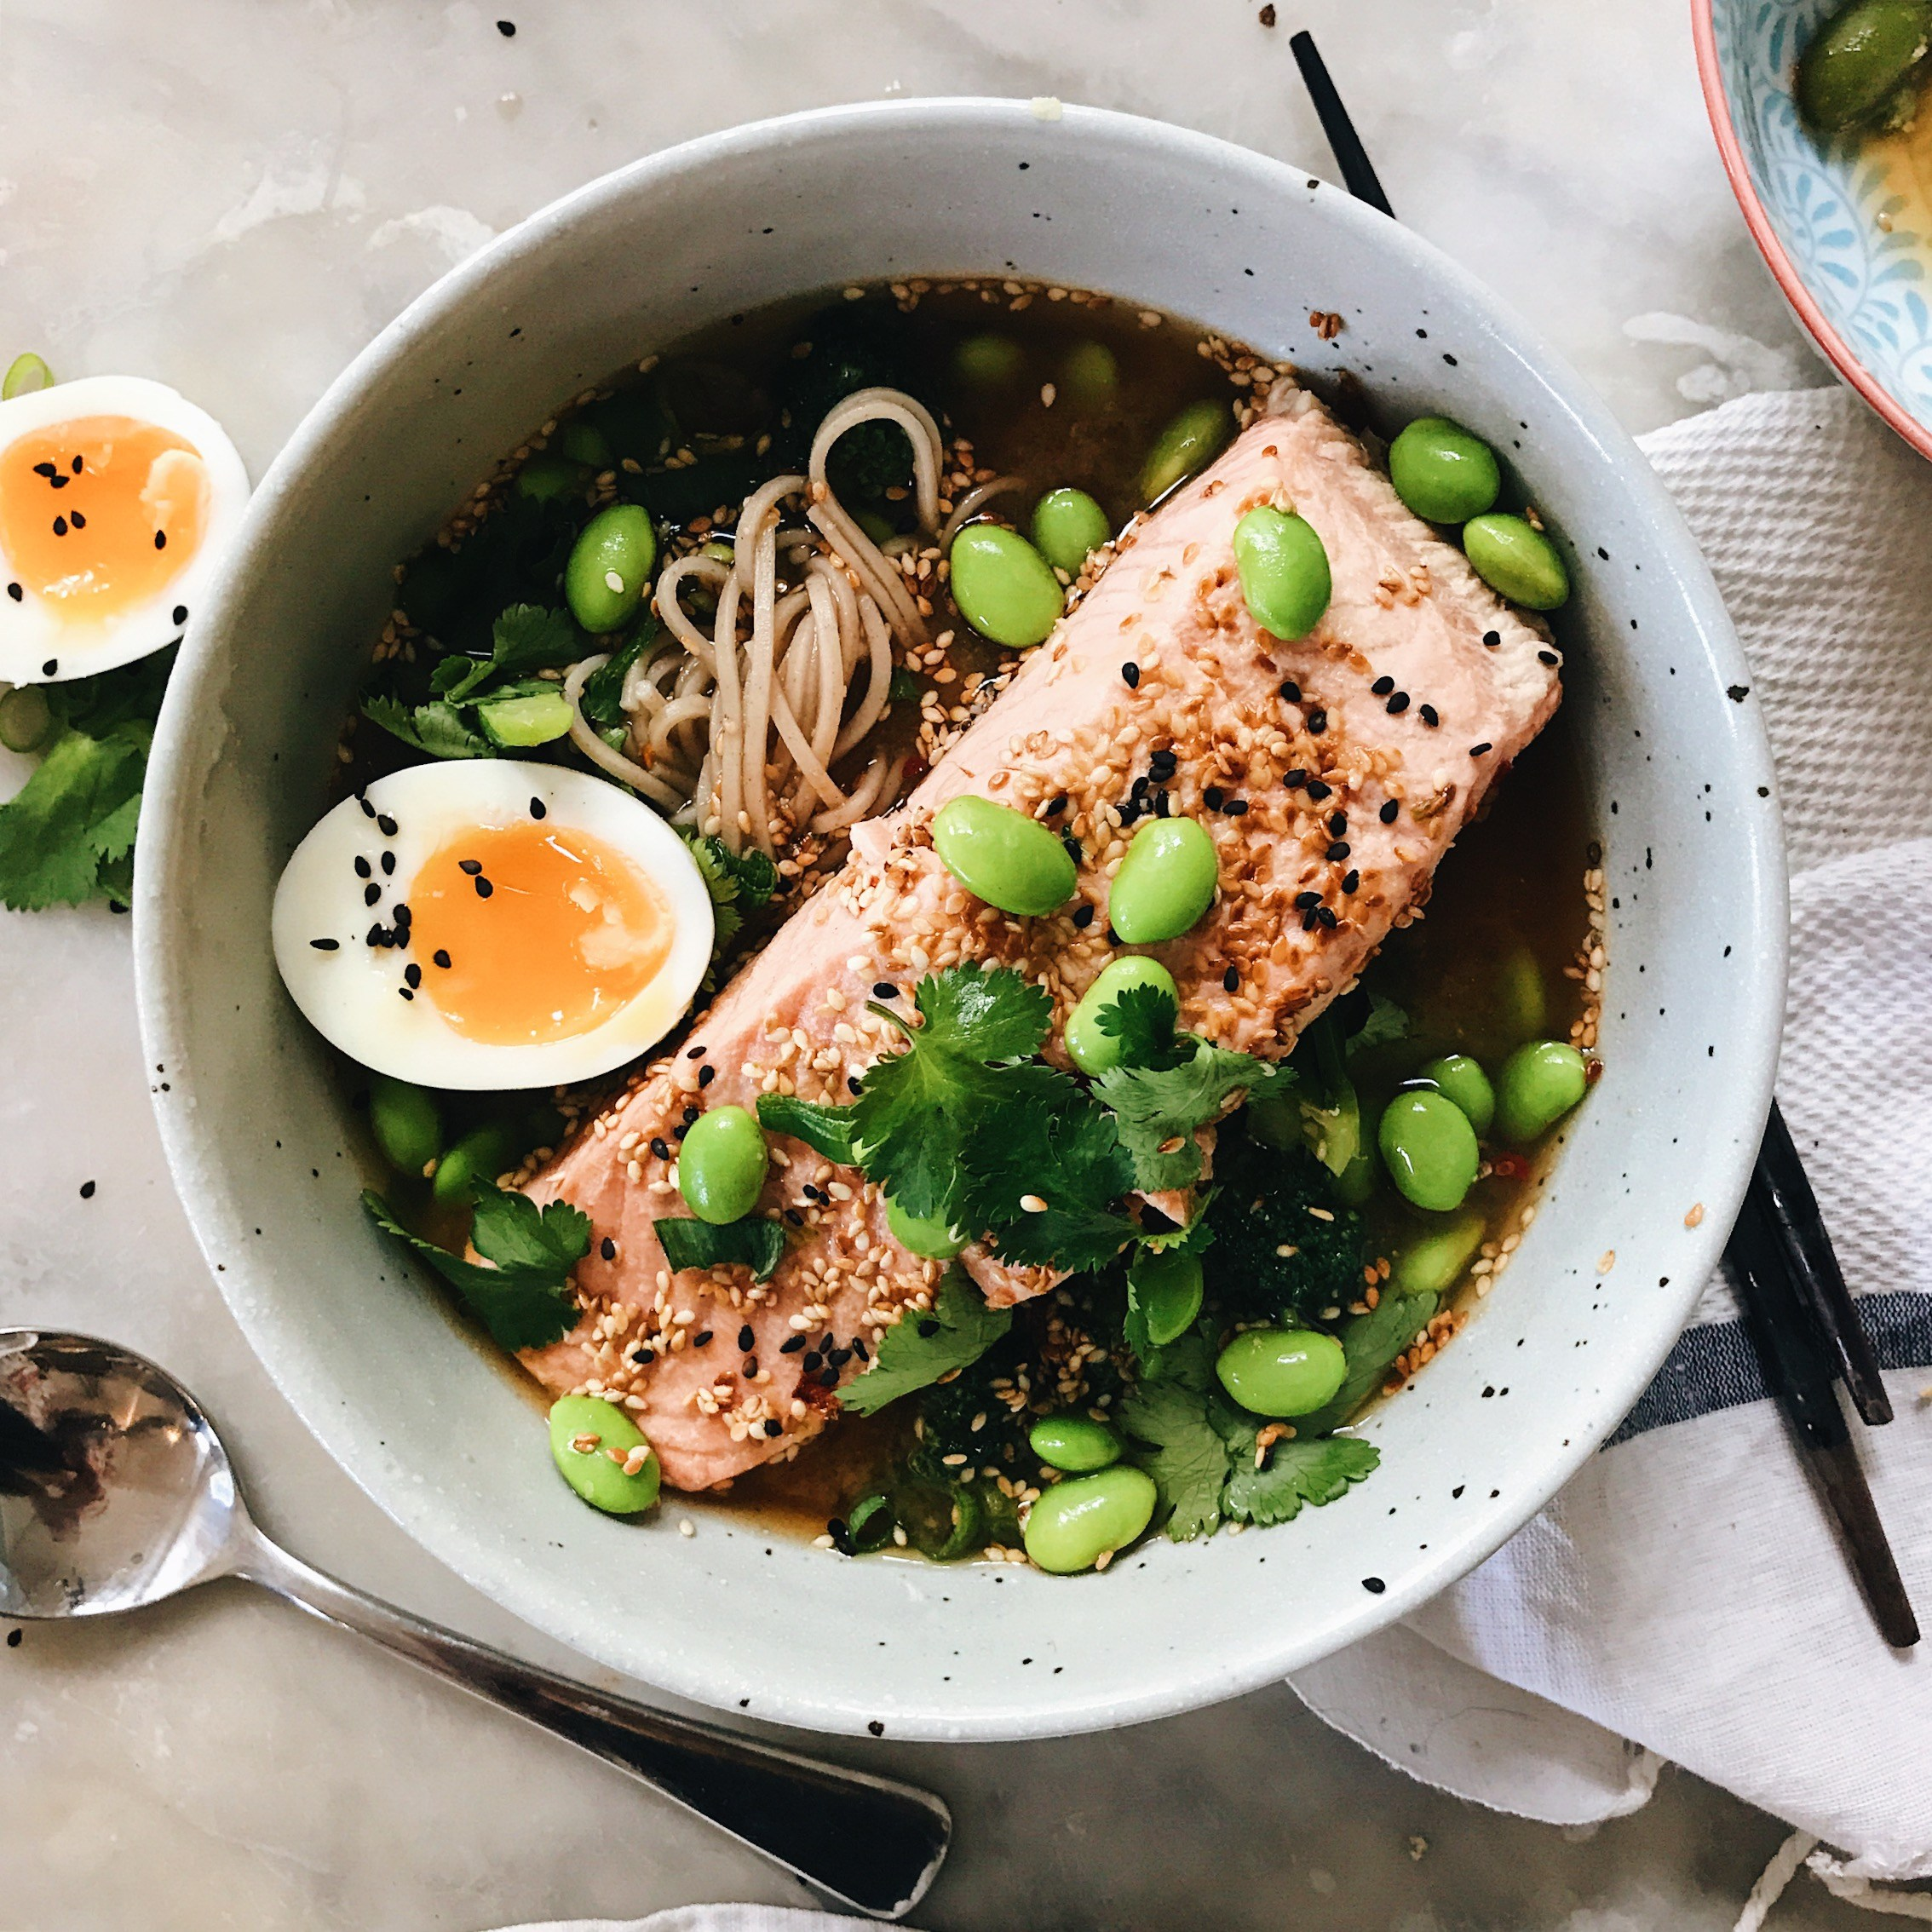Soba: (547, 364, 1007, 870)
